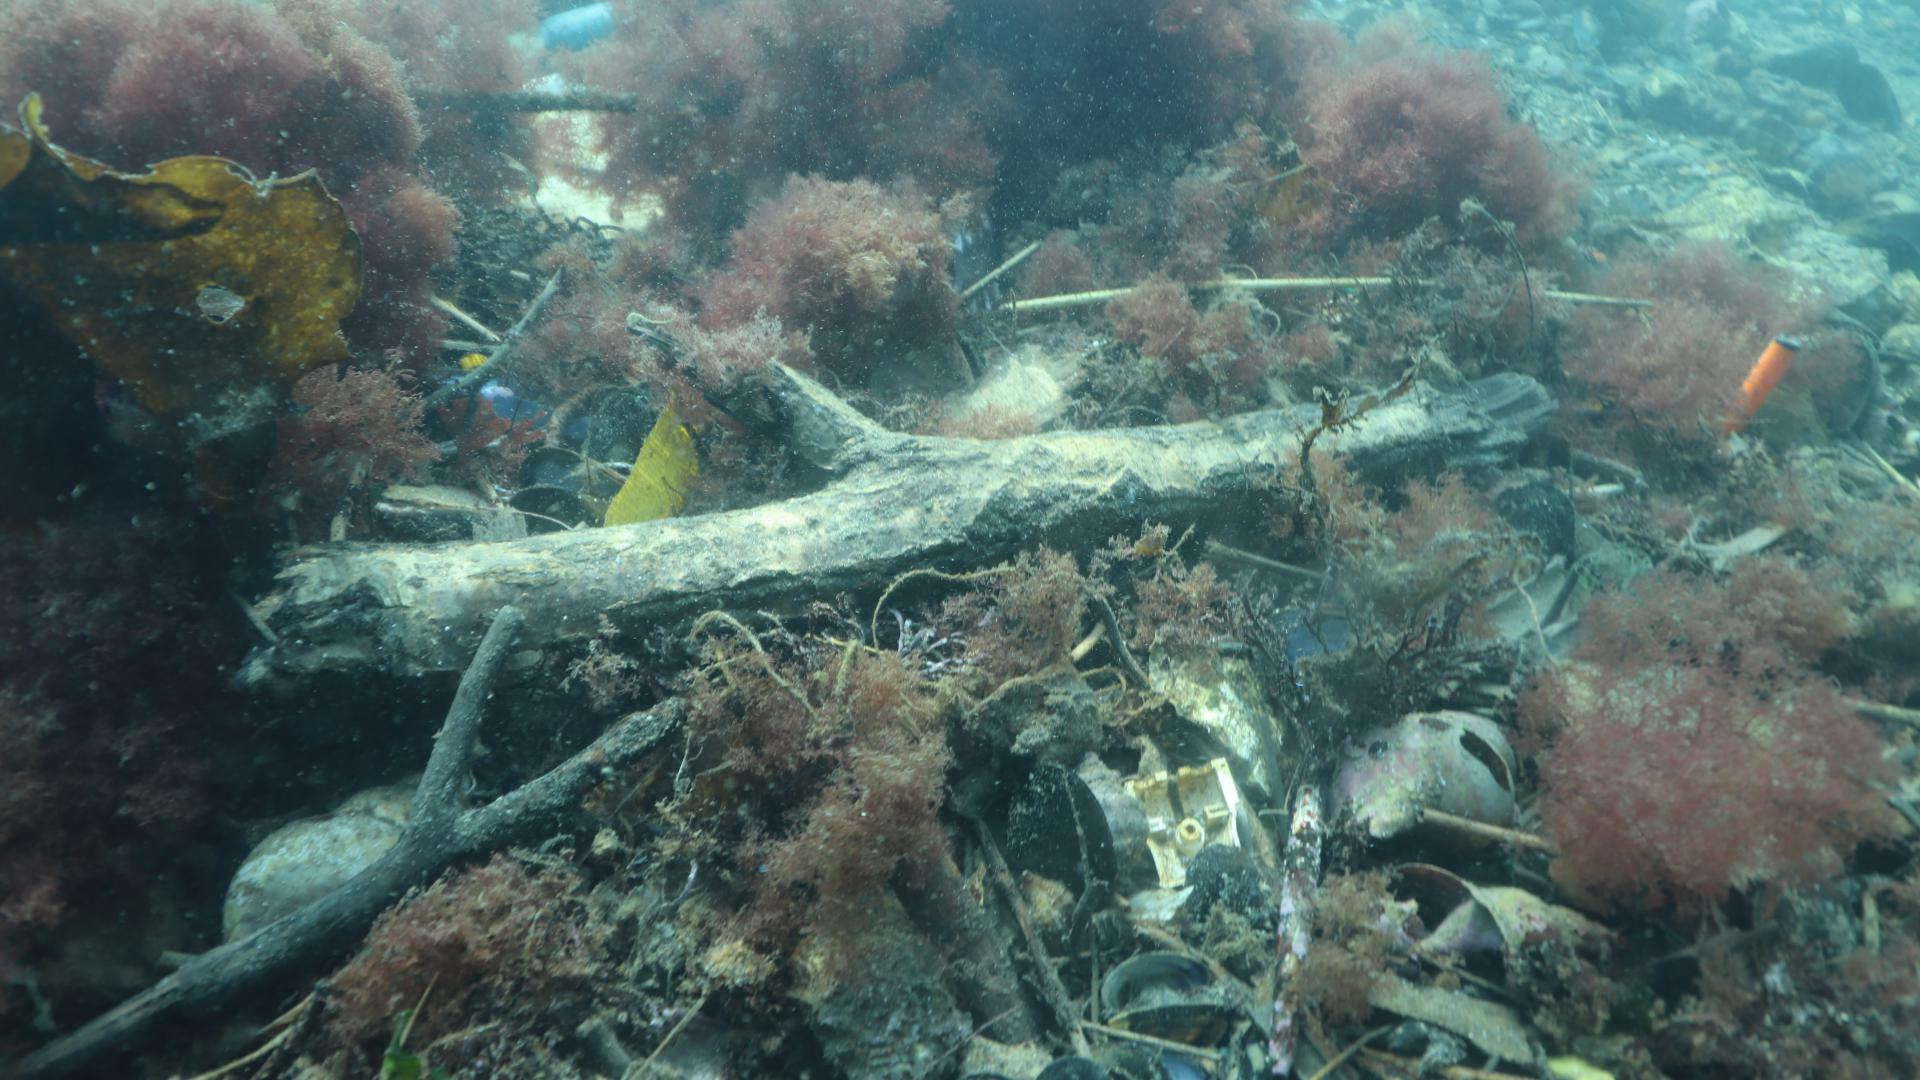wood: (261, 353, 1557, 680), (0, 578, 675, 1067)
